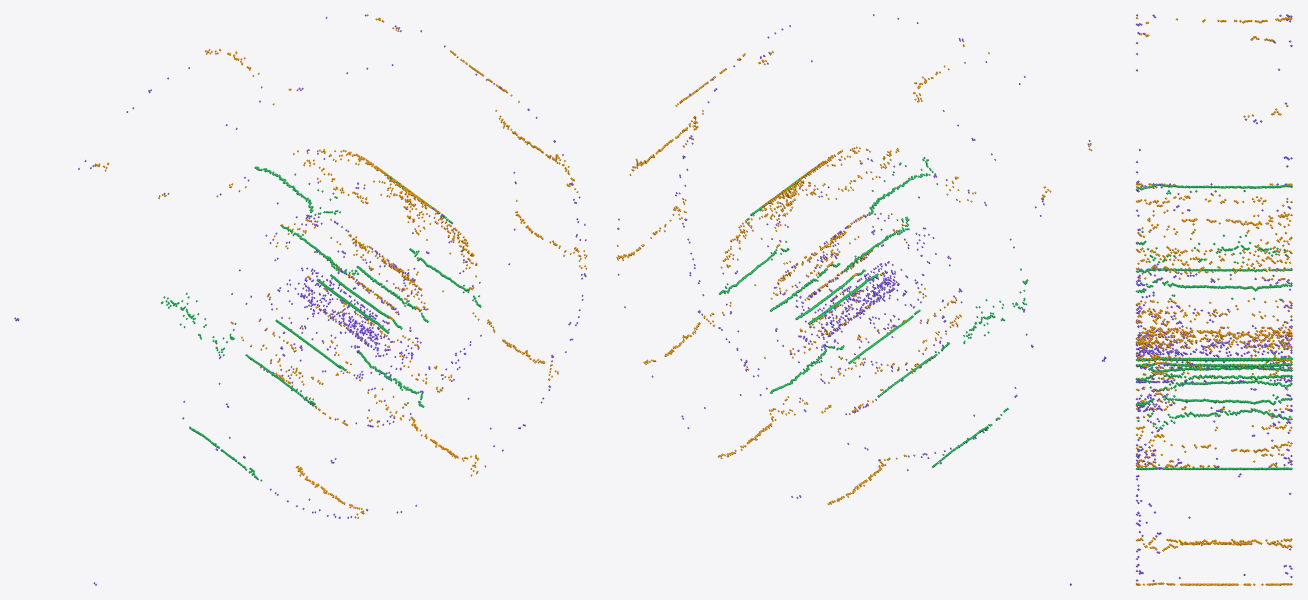
Rendered from plotly_point_sculpture.obj.
3 renders of one model, left to right at view 1: azimuth 30°, elevation 25°; view 2: azimuth 150°, elevation 25°; view 3: azimuth 270°, elevation 25°, orthographic. The views are drawn at different scales.
Parts seen in each view (by area): view 1: trace_1__violin2___note_box_body, trace_2__violin2___secondary_harmonics, trace_0__violin2___chain_core; view 2: trace_1__violin2___note_box_body, trace_2__violin2___secondary_harmonics, trace_0__violin2___chain_core; view 3: trace_1__violin2___note_box_body, trace_0__violin2___chain_core, trace_2__violin2___secondary_harmonics.
Boxes of the visible parts, x1=… form: trace_1__violin2___note_box_body: x1=94, y1=14, x2=587, y2=518; trace_2__violin2___secondary_harmonics: x1=14, y1=14, x2=586, y2=585; trace_0__violin2___chain_core: x1=161, y1=166, x2=481, y2=481; trace_1__violin2___note_box_body: x1=616, y1=40, x2=1092, y2=504; trace_2__violin2___secondary_harmonics: x1=617, y1=14, x2=1106, y2=585; trace_0__violin2___chain_core: x1=718, y1=156, x2=1028, y2=467; trace_1__violin2___note_box_body: x1=1135, y1=17, x2=1292, y2=585; trace_0__violin2___chain_core: x1=1135, y1=184, x2=1292, y2=470; trace_2__violin2___secondary_harmonics: x1=1136, y1=14, x2=1292, y2=581.
Bounding box in the file's own units: 38.46 × 36.36 × 9.56.
